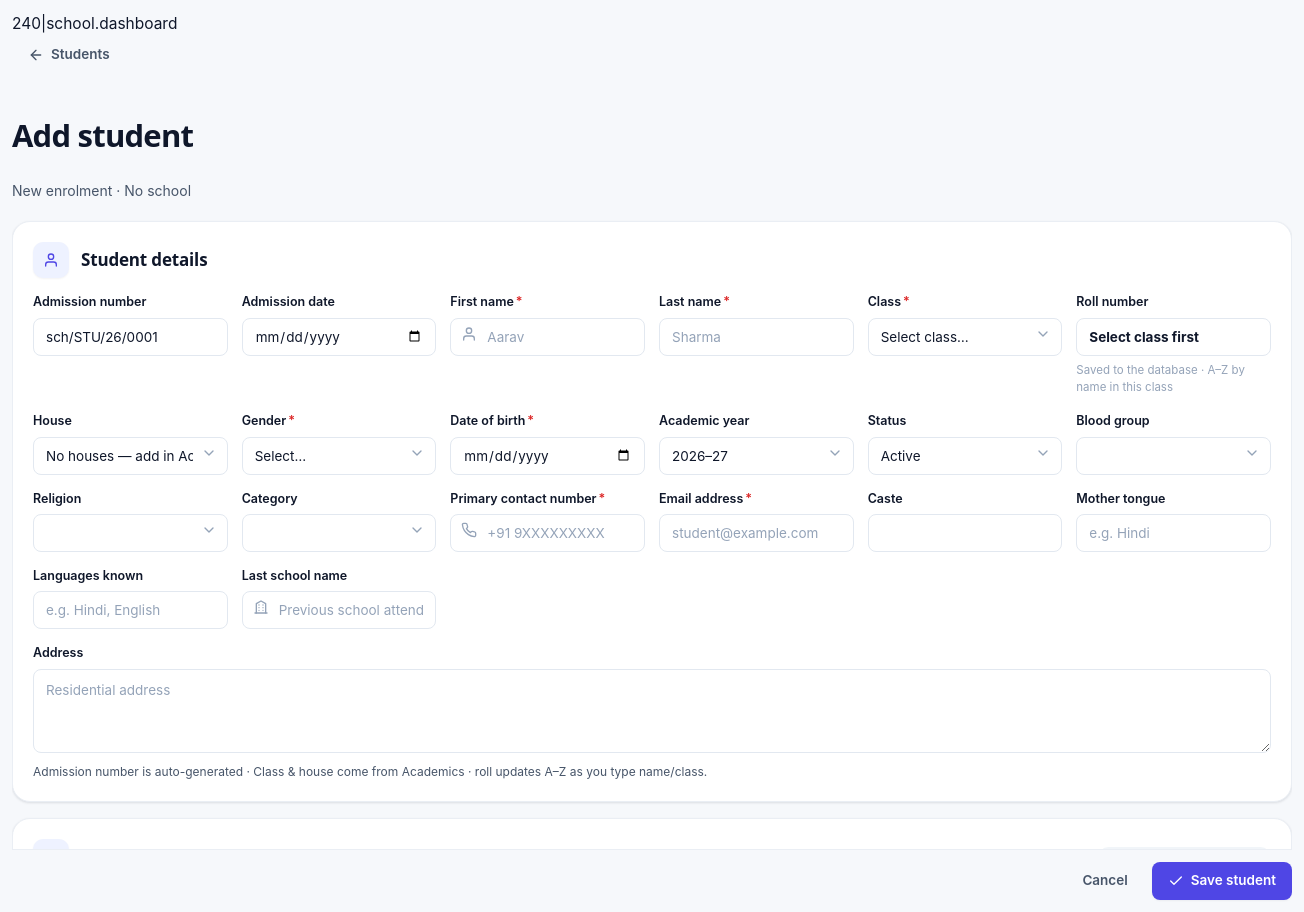
Test: Add Student form › blocks save and shows errors when required fields are empty
Click the button "Save student".
click(1222, 881)  # box [1152,862,1292,900]
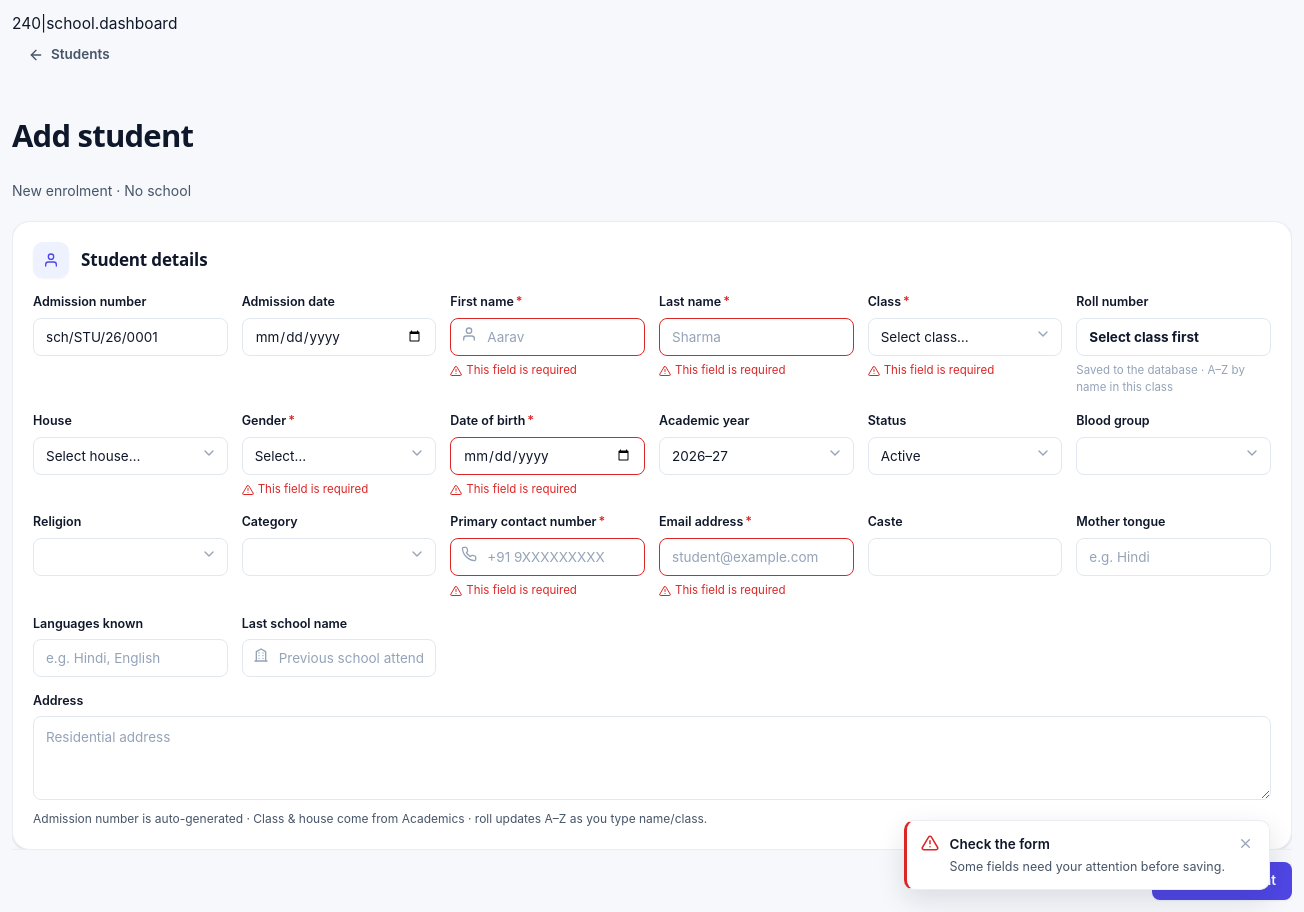
Now the text "This field is required" below "First name" is shown, box [466,363,577,377]
